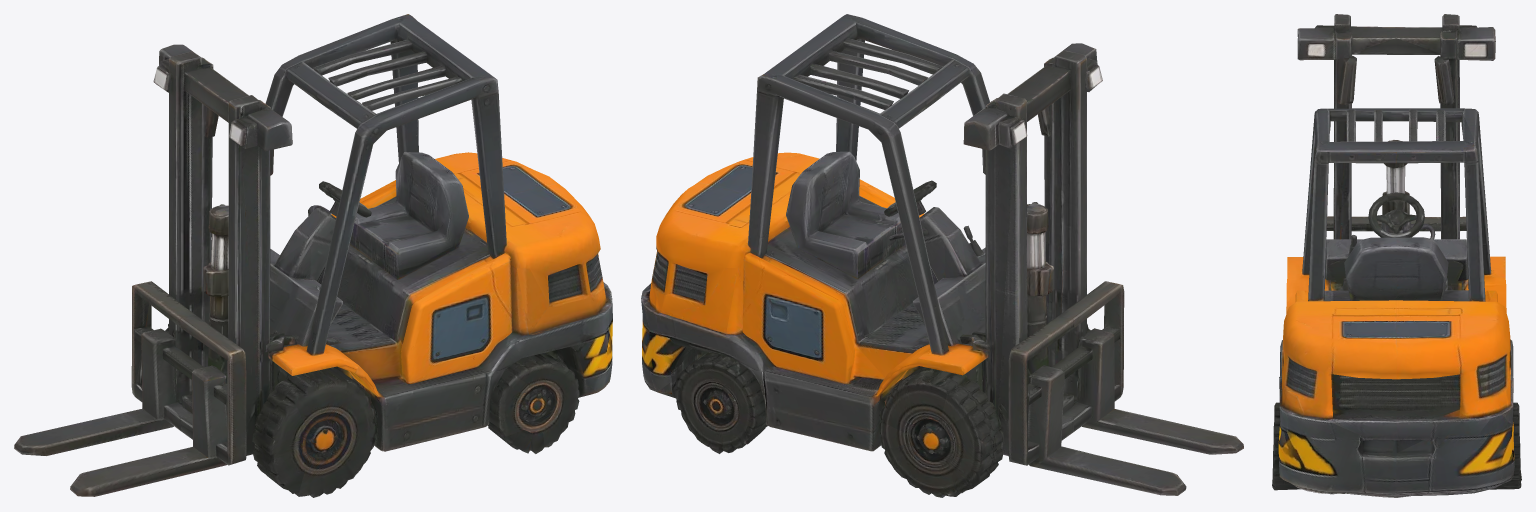
File: forklift.glb
3 views of the same model, side by side, from view 1: azimuth 30°, elevation 25°; view 2: azimuth 150°, elevation 25°; view 3: azimuth 270°, elevation 25° (orthographic). The views are drawn at different scales.
Visible parts, largest first — view 1: mesh_node; view 2: mesh_node; view 3: mesh_node.
Part boxes in pixels (x1=…): mesh_node: x1=14, y1=14, x2=612, y2=497; mesh_node: x1=641, y1=14, x2=1243, y2=497; mesh_node: x1=1272, y1=14, x2=1521, y2=497.
Size of the model in its own units: 1 by 0.705 by 0.4493.
Materials: 1 (1 with a texture image).
